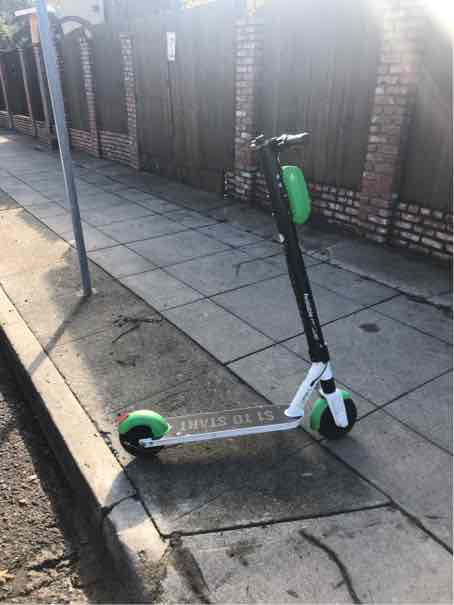scooter: (108, 114, 364, 467)
